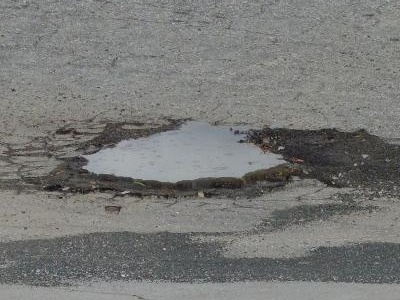pothole: (41, 117, 308, 206)
